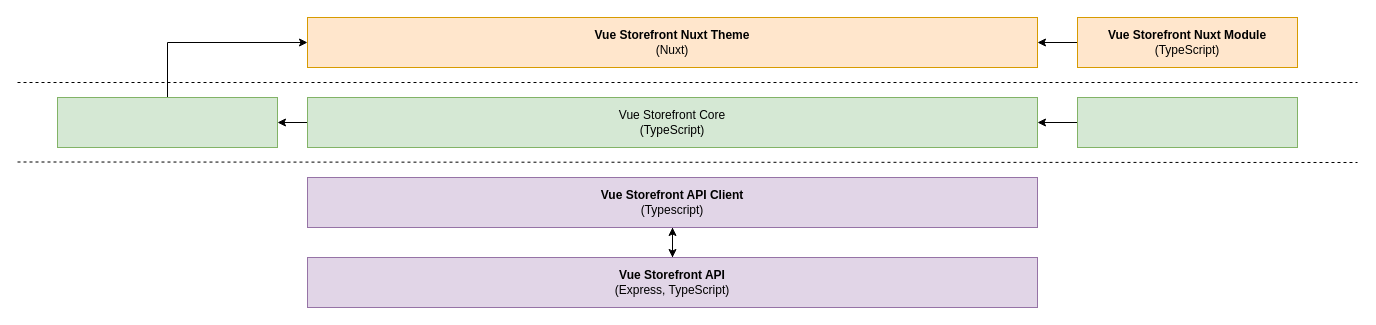
Image size: 1376x325. Some labels were removed from this diagram. The shapes that lost their labels are listed below. From the top down, each one's centre as x and y in pixels, then its label:
pixel 167 122: Vue Storefront Modules (TypeScript, Vue)
pixel 1187 122: Vue Storefront Libraries (TypeScript)
